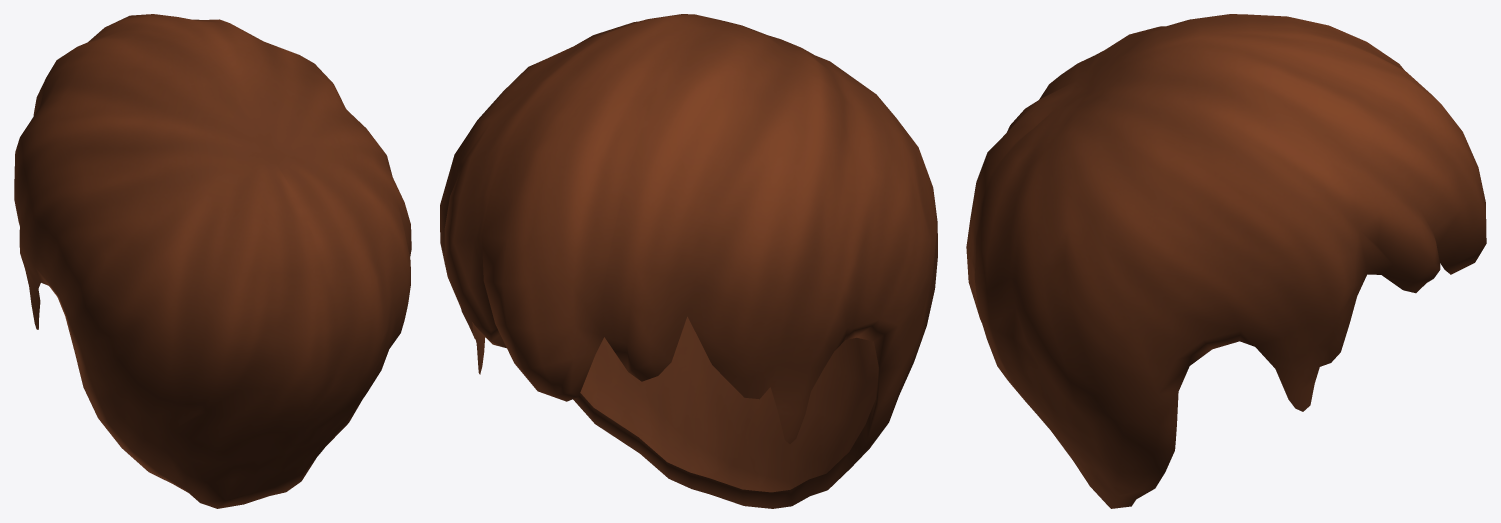
The model's file is Hair_Male_001_textured_brown.glb.
3 renders of one model, left to right at view 1: azimuth 30°, elevation 25°; view 2: azimuth 150°, elevation 25°; view 3: azimuth 270°, elevation 25°, orthographic. The views are drawn at different scales.
Parts seen in each view (by area): view 1: Hair_Male_001; view 2: Hair_Male_001; view 3: Hair_Male_001.
Part boxes in pixels (<box>): Hair_Male_001: <box>14,14,411,508</box>; Hair_Male_001: <box>440,14,937,508</box>; Hair_Male_001: <box>966,14,1486,508</box>.
Size of the model in its own units: 0.189 by 0.2389 by 0.2448.
1 material, 1 textured.
